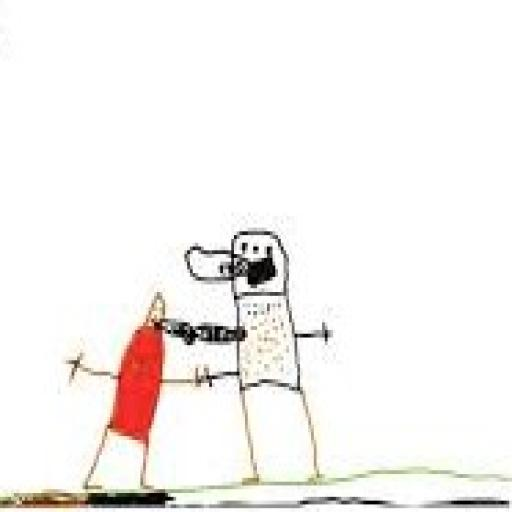person: (186, 206, 337, 488), (58, 284, 202, 494)
